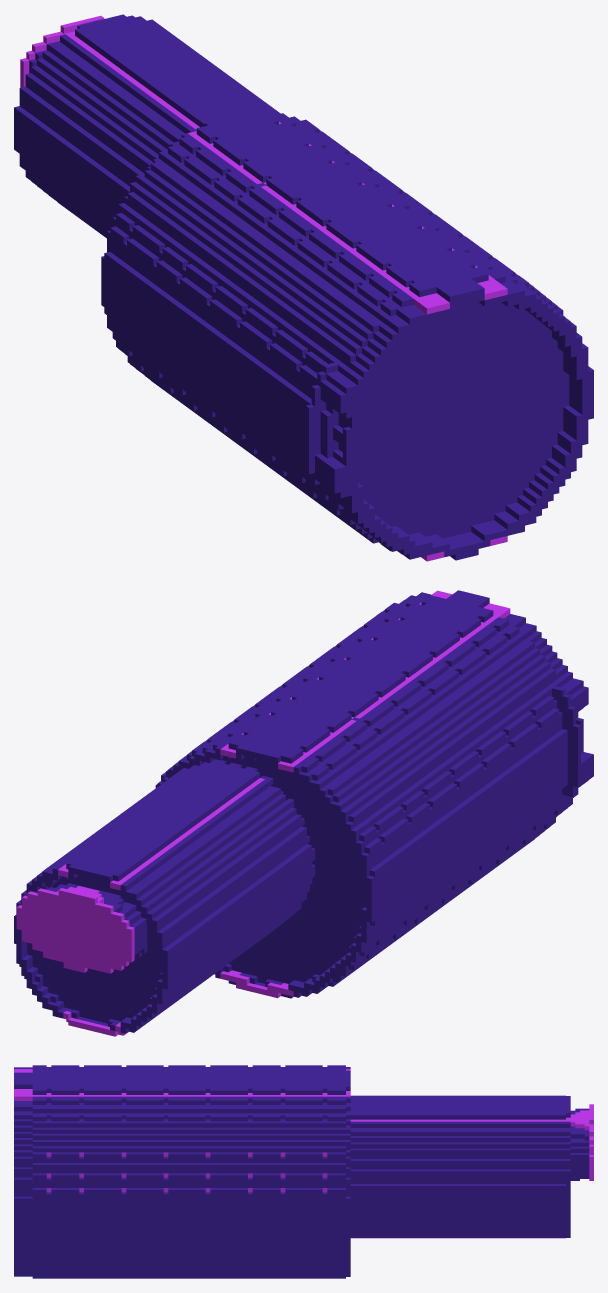
The model's file is building2.obj.
The picture shows the model from 3 angles, top to bottom: view 1: azimuth 30°, elevation 25°; view 2: azimuth 150°, elevation 25°; view 3: azimuth 270°, elevation 25°; orthographic projection. The views are drawn at different scales.
Size of the model in its own units: 4.6 by 4.4 by 12.4.
Materials: 1 (1 with a texture image).
